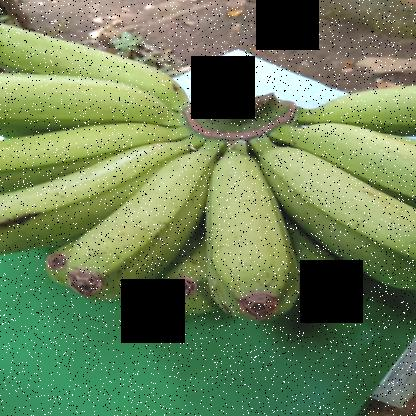freshunripe: (245, 133, 415, 298), (61, 148, 228, 307), (188, 148, 302, 328), (1, 17, 195, 106), (1, 67, 167, 146), (1, 120, 185, 188), (273, 70, 416, 132), (302, 115, 415, 193)
unripe: (1, 129, 201, 256)
